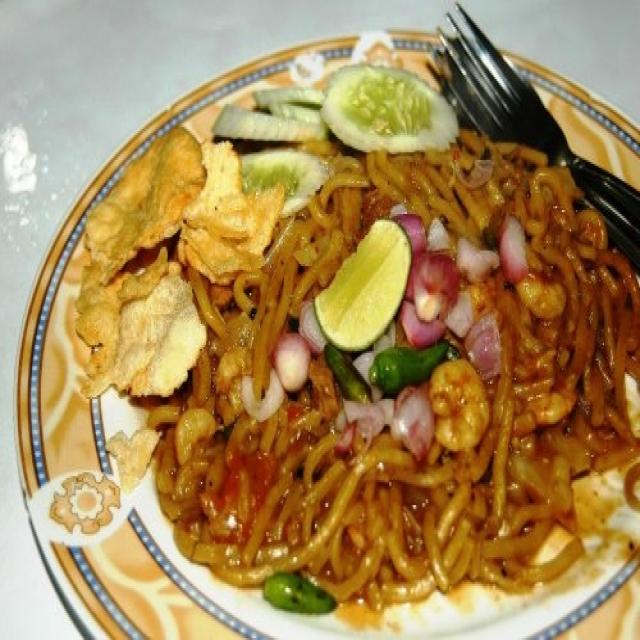面条主食: (40, 42, 617, 621)
